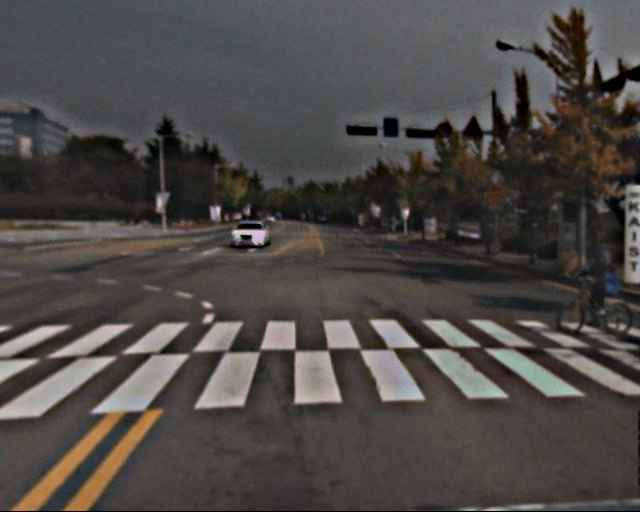person: (589, 248, 620, 323)
